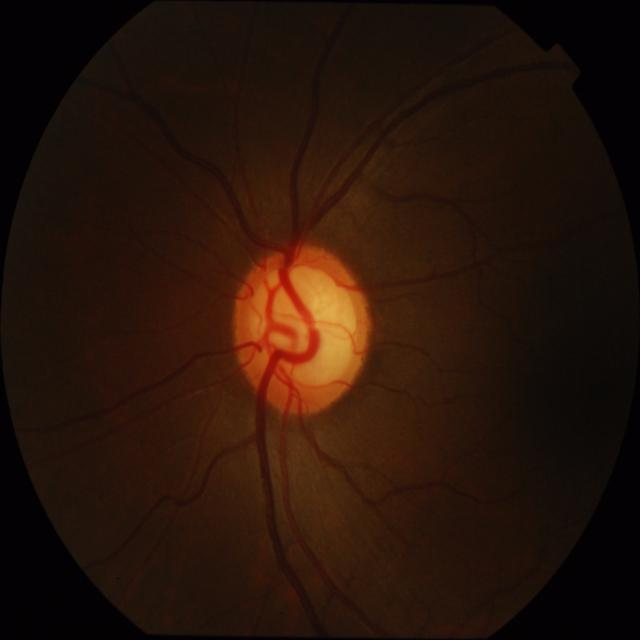OC: (248, 262, 358, 393)
OD: (230, 243, 372, 415)
